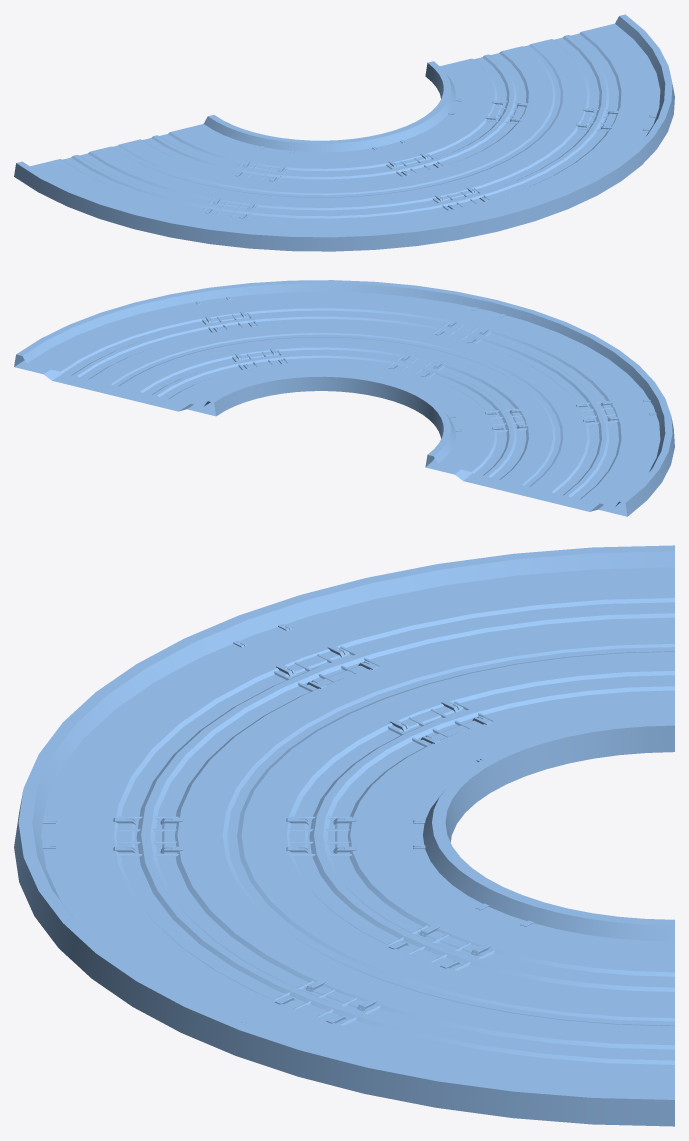
Rendered from Race-Circuit_03.FBX.
The picture shows the model from 3 angles, top to bottom: view 1: azimuth 30°, elevation 25°; view 2: azimuth 150°, elevation 25°; view 3: azimuth 270°, elevation 25°; orthographic projection. The views are drawn at different scales.
Visible parts, largest first — view 1: Race-Circuit_03; view 2: Race-Circuit_03; view 3: Race-Circuit_03.
Boxes of the visible parts, x1,y1,x2,y2 form: Race-Circuit_03: (14,14,674,251); Race-Circuit_03: (14,280,674,516); Race-Circuit_03: (14,545,674,1126).
Bounding box in the file's own units: 2917 × 80.22 × 1459.
